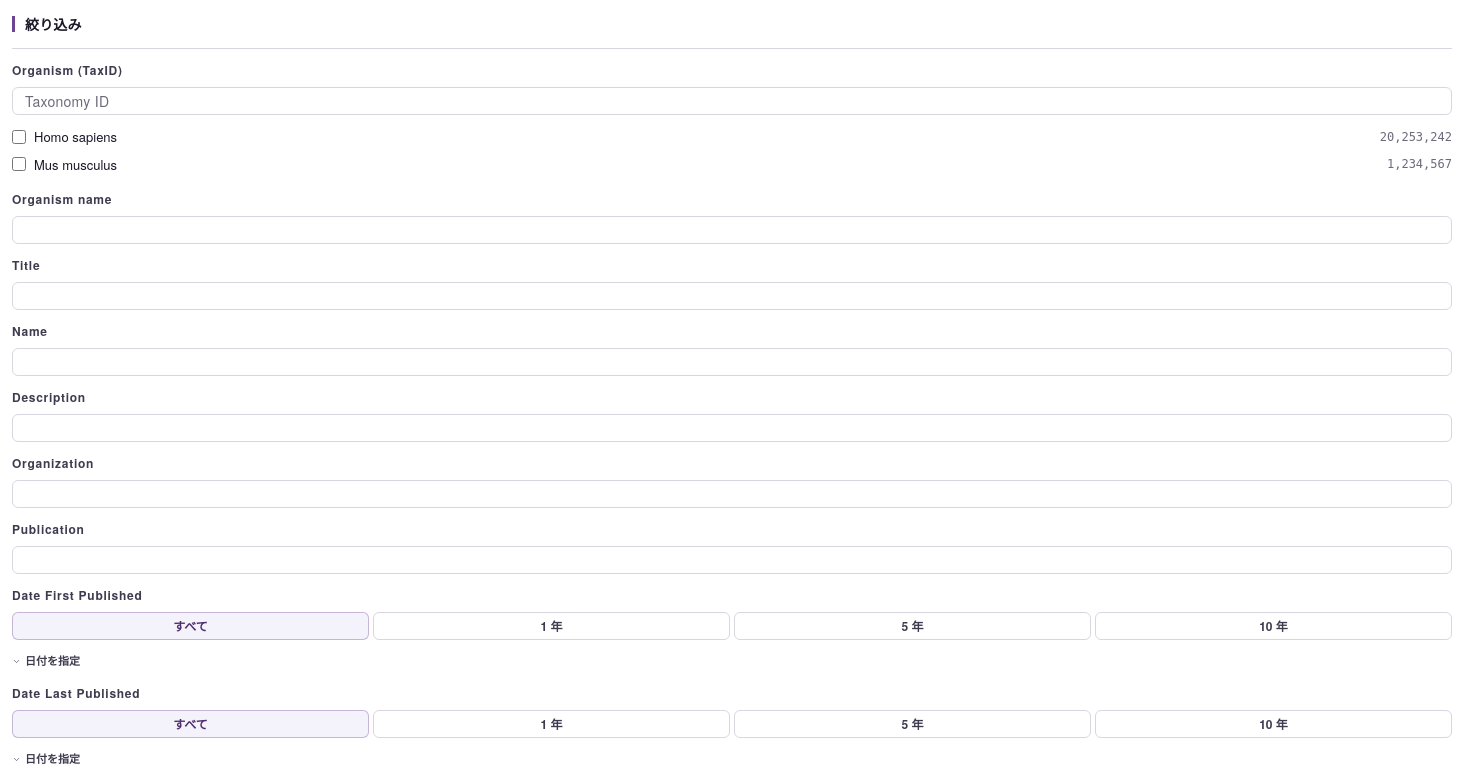
Test: OrganismFacetSection tax id box › trailingCommaNotClobberedWhileTyping
Step 1. Type "9606, " into the field labelled "Taxonomy ID" → (732, 101), box [12,87,1452,115]
Wait 300 ms
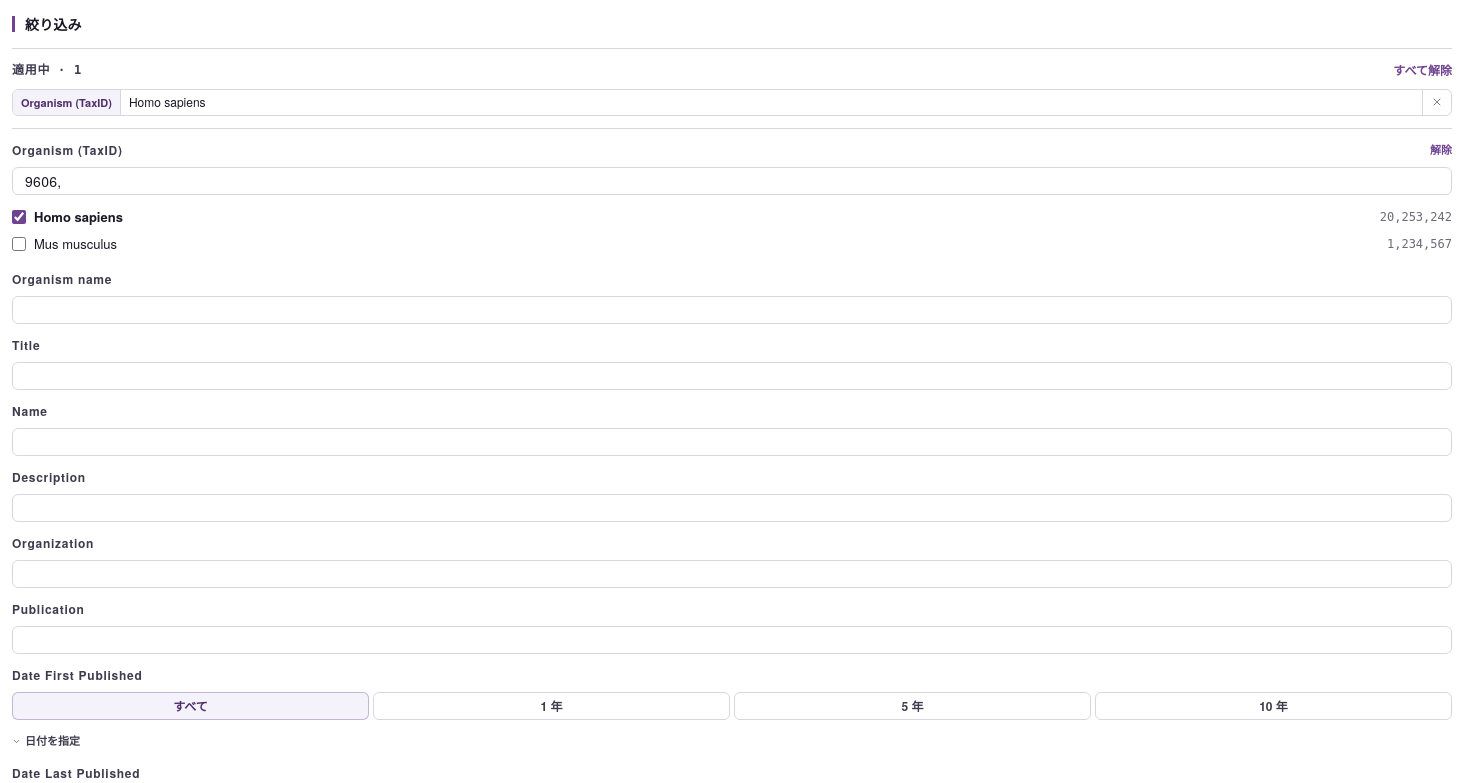
Expected: the checkbox labelled "Homo sapiens 20,253,242" is checked, [12,210,26,224]
